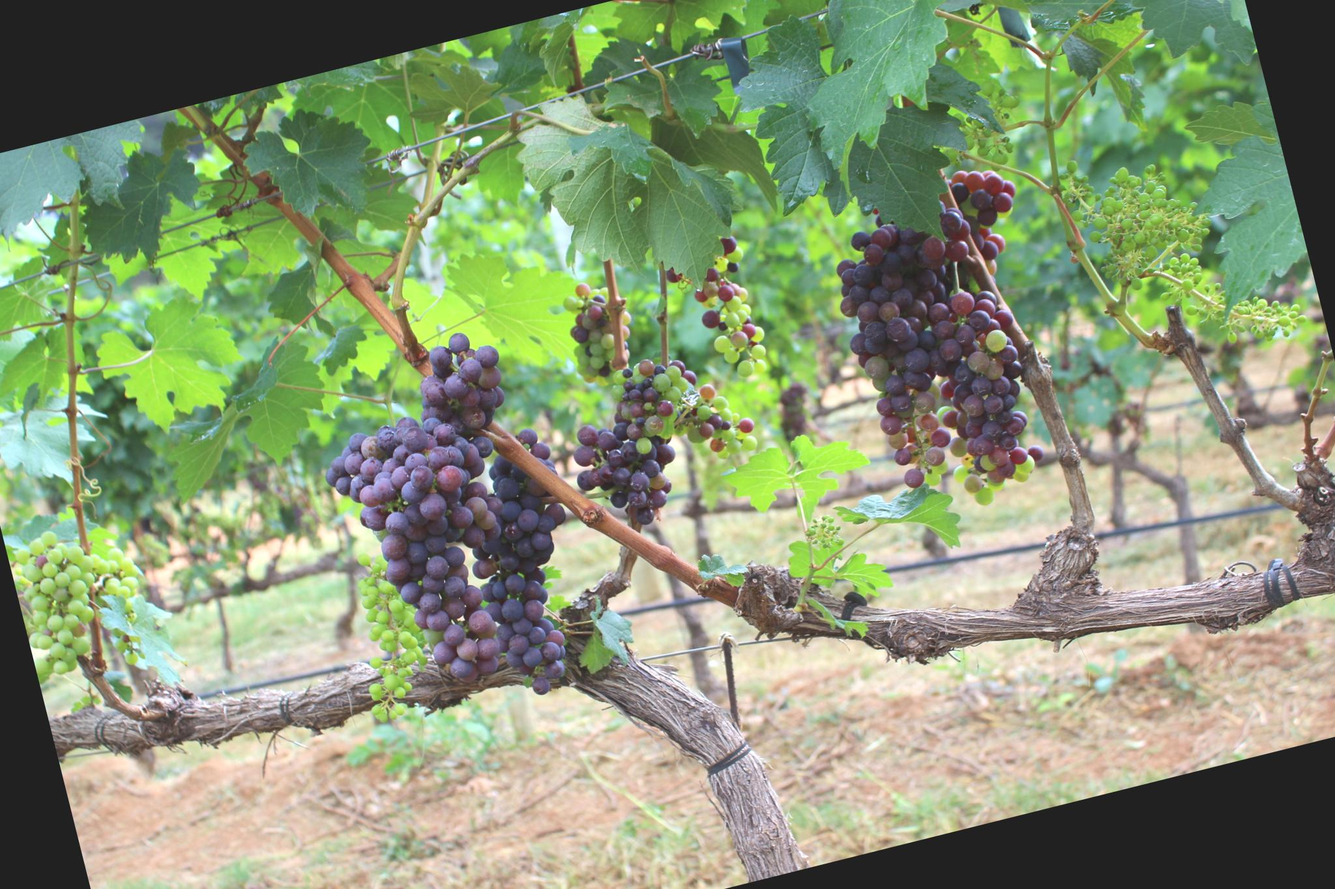Grape Ripe: (313, 406, 531, 705), (433, 423, 610, 709), (821, 208, 985, 495), (905, 273, 1059, 510), (407, 322, 513, 457), (925, 155, 1020, 276)
Grape Unripe: (4, 510, 167, 684), (329, 533, 441, 734), (1078, 147, 1214, 289), (1189, 268, 1304, 361)
